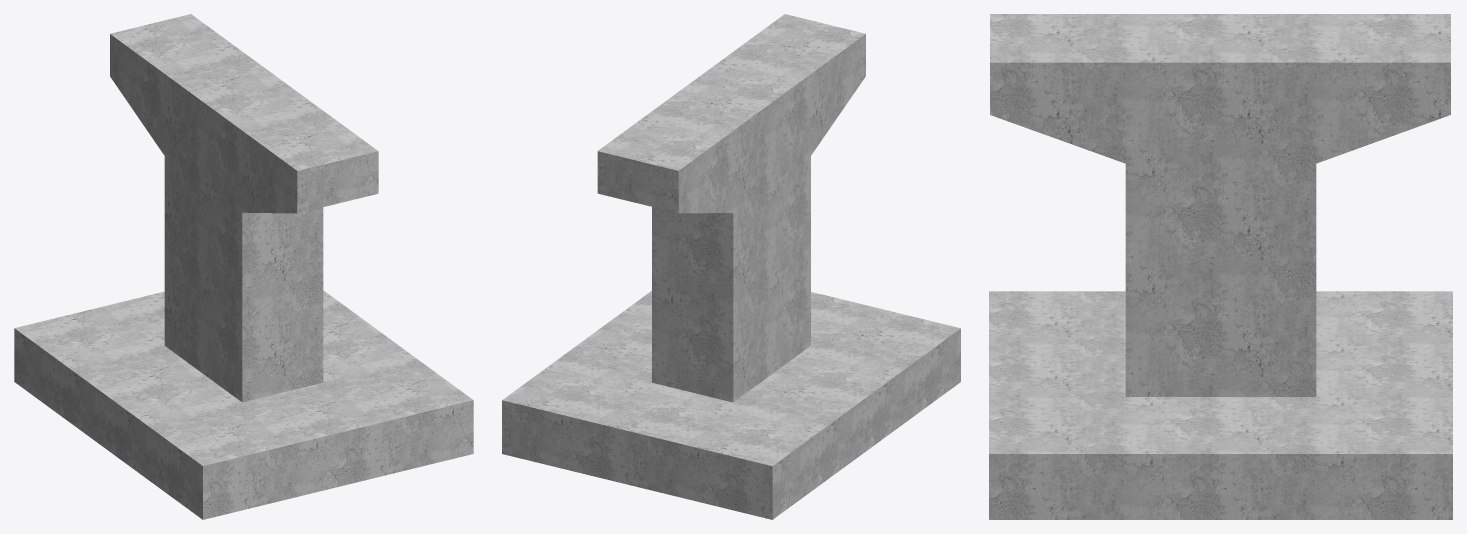
Rendered from Column.glb.
3 views of the same model, side by side, from view 1: azimuth 30°, elevation 25°; view 2: azimuth 150°, elevation 25°; view 3: azimuth 270°, elevation 25° (orthographic). The views are drawn at different scales.
Visible parts, largest first — view 1: Geom3D (×2); view 2: Geom3D (×2); view 3: Geom3D (×2).
Part boxes in pixels (bbox=[...]): Geom3D (×2): bbox=[14, 14, 473, 519]; Geom3D (×2): bbox=[502, 14, 960, 519]; Geom3D (×2): bbox=[989, 14, 1452, 519].
Size of the model in its own units: 10 by 11.5 by 12.07.
Materials: 1 (1 with a texture image).
